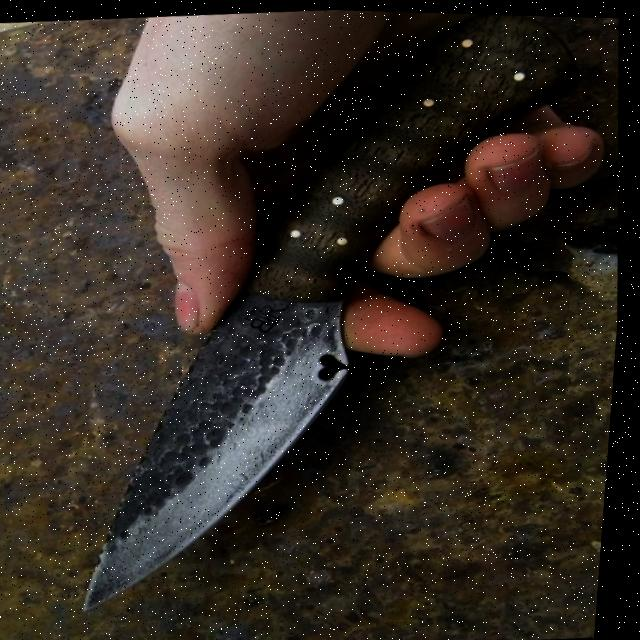knife: (48, 2, 612, 621)
